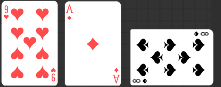8C: (192, 30, 209, 37)
AD: (111, 66, 120, 84)
